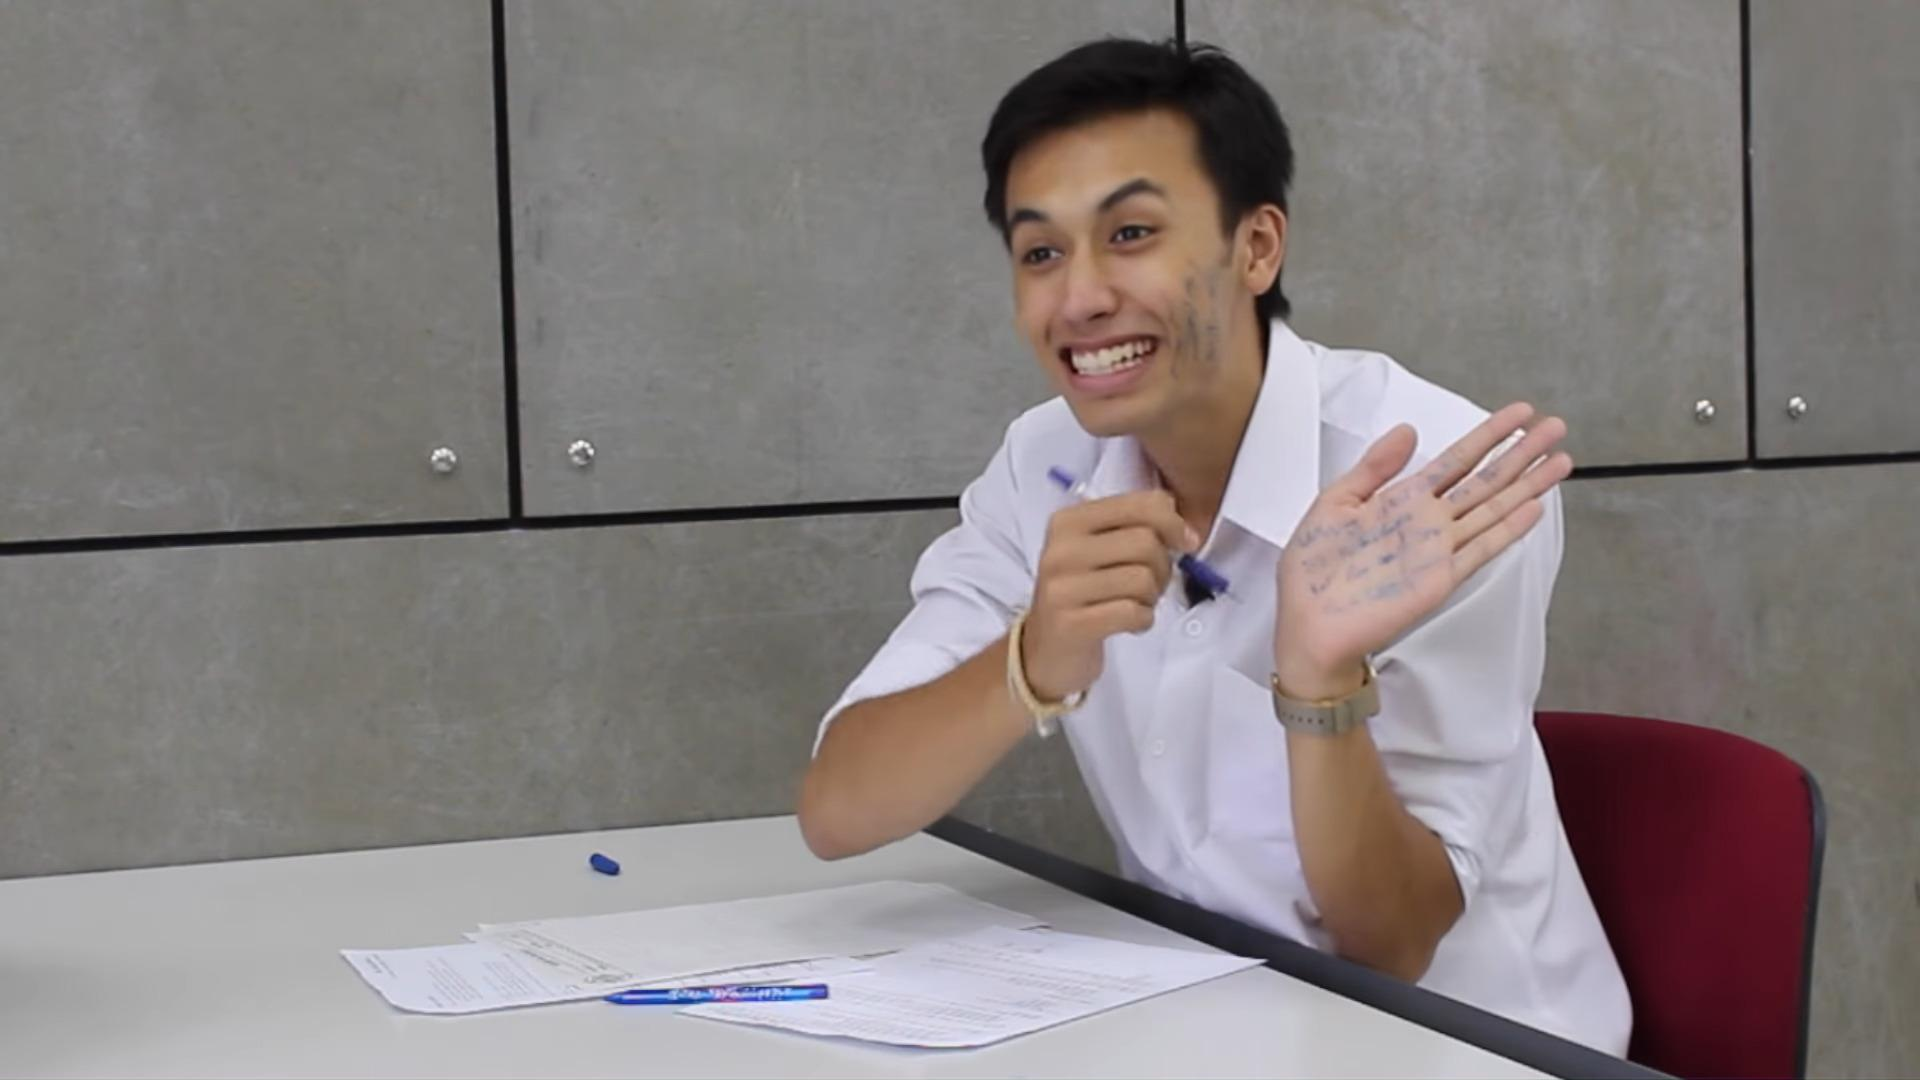cheating: (320, 30, 1604, 1080)
